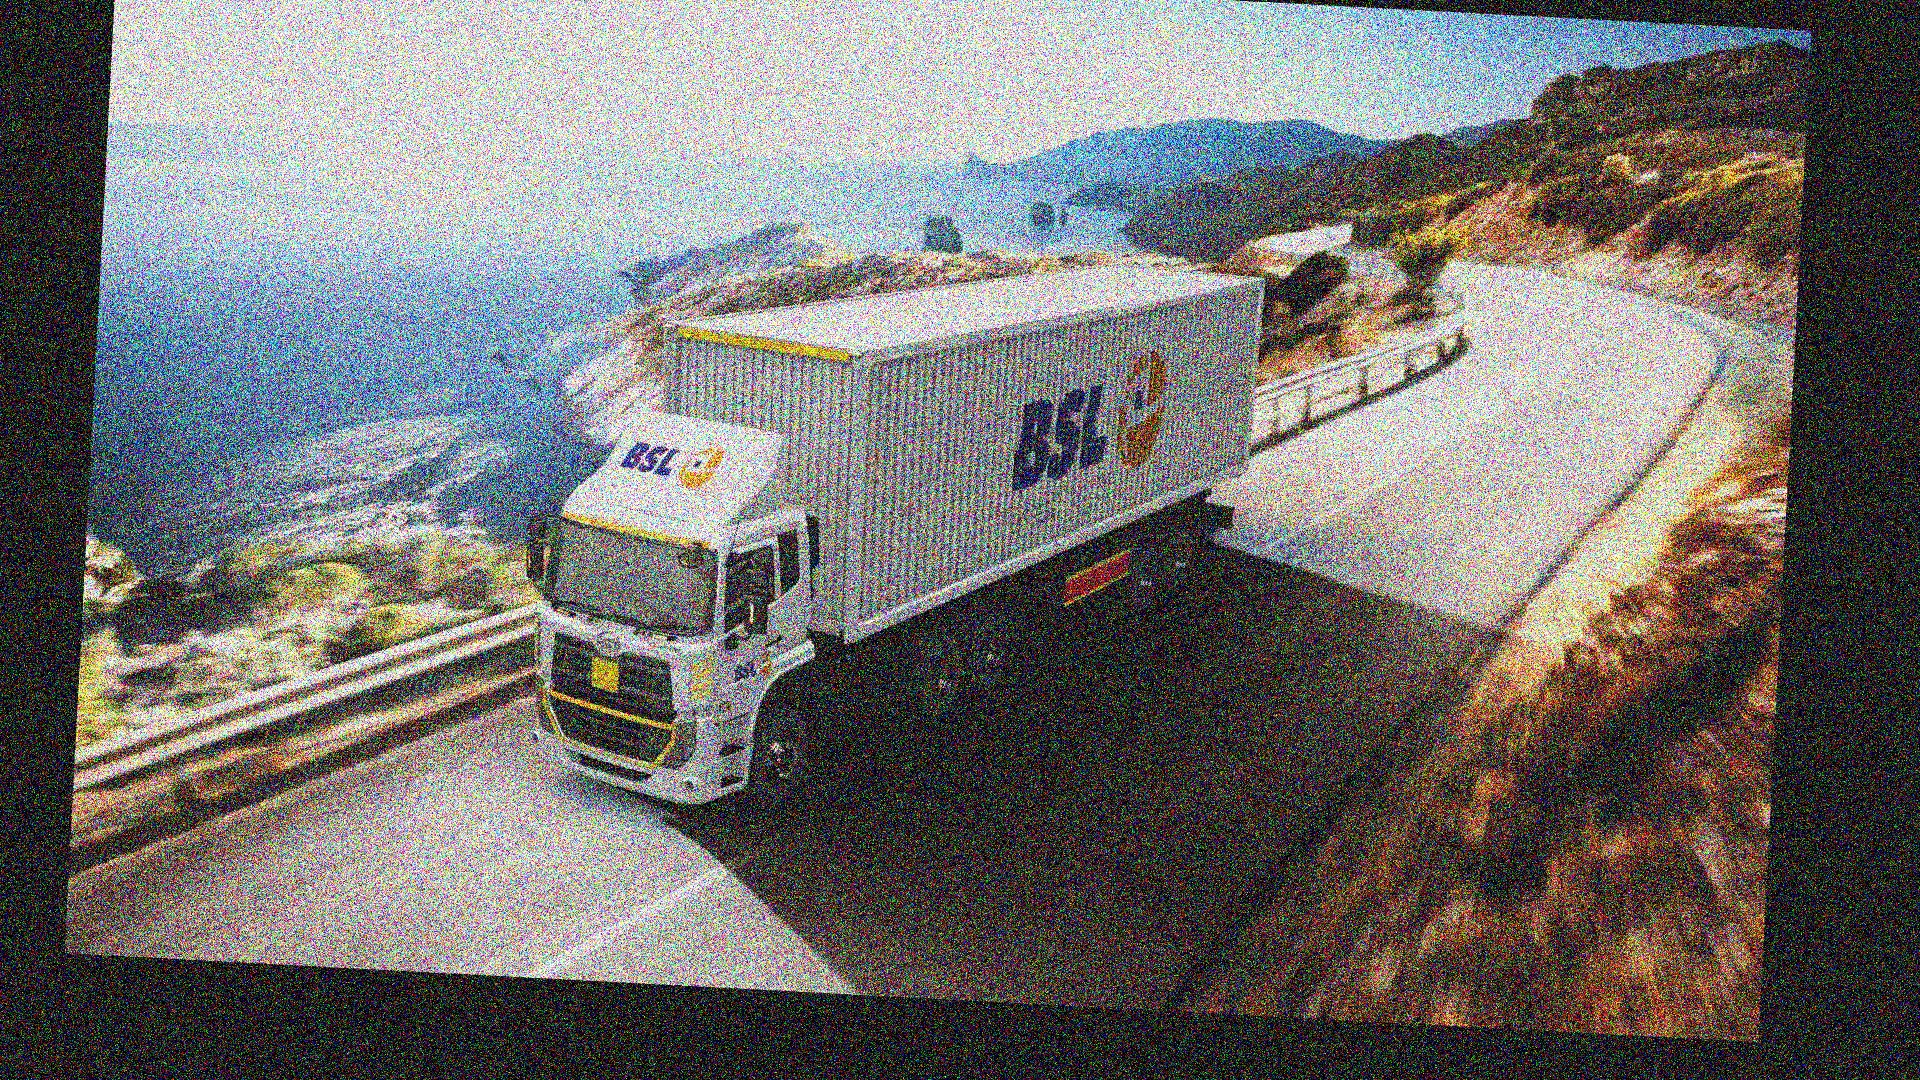truck: (526, 237, 1267, 843)
